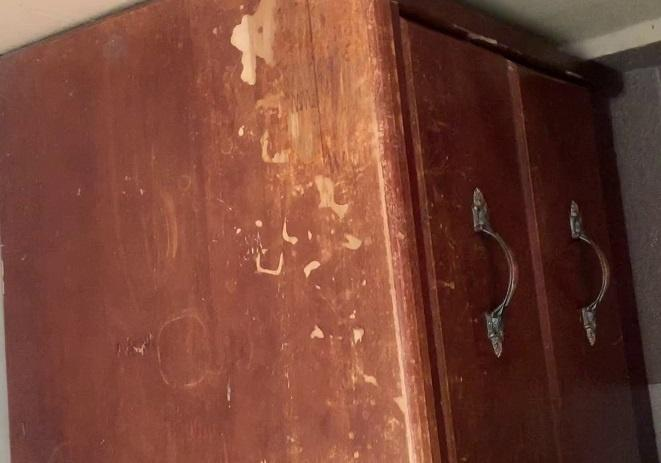cabinet_door: (432, 28, 536, 463), (539, 71, 627, 463)
handle: (466, 185, 524, 362), (564, 197, 617, 350)
